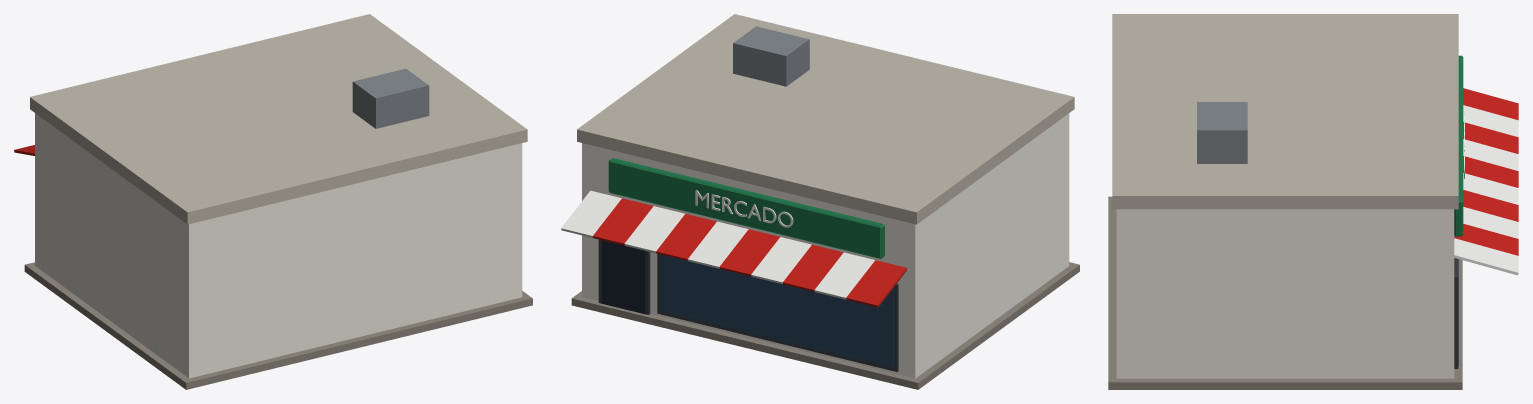
The model's file is loja.glb.
The picture shows the model from 3 angles, left to right: view 1: azimuth 30°, elevation 25°; view 2: azimuth 150°, elevation 25°; view 3: azimuth 270°, elevation 25°; orthographic projection. The views are drawn at different scales.
Parts seen in each view (by area): view 1: loja_corpo; view 2: loja_corpo, letreiro; view 3: loja_corpo.
Boxes of the visible parts, x1,y1,x2,y2 form: loja_corpo: [14, 14, 532, 389]; loja_corpo: [561, 14, 1079, 389]; letreiro: [695, 190, 793, 227]; loja_corpo: [1108, 14, 1518, 389].
Size of the model in its own units: 10.4 by 5.9 by 9.73.
